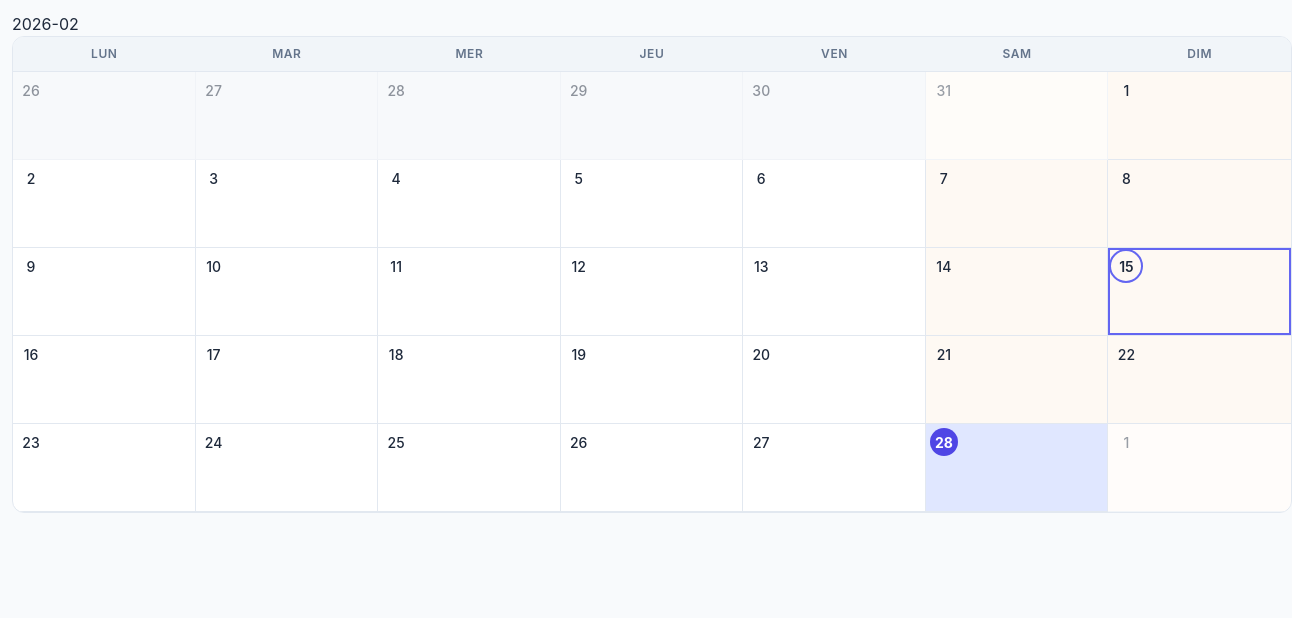
Test: CalendarGrid swipe navigation › swipe left navigates to the next month (Feb → Mar)
Expected: the text with test id "current-month" reads "2026-02", [12,14,79,34]
Step 1. Press the mouse on the table → coordinates (652, 274), box [12,36,1291,513]
Wait 500 ms
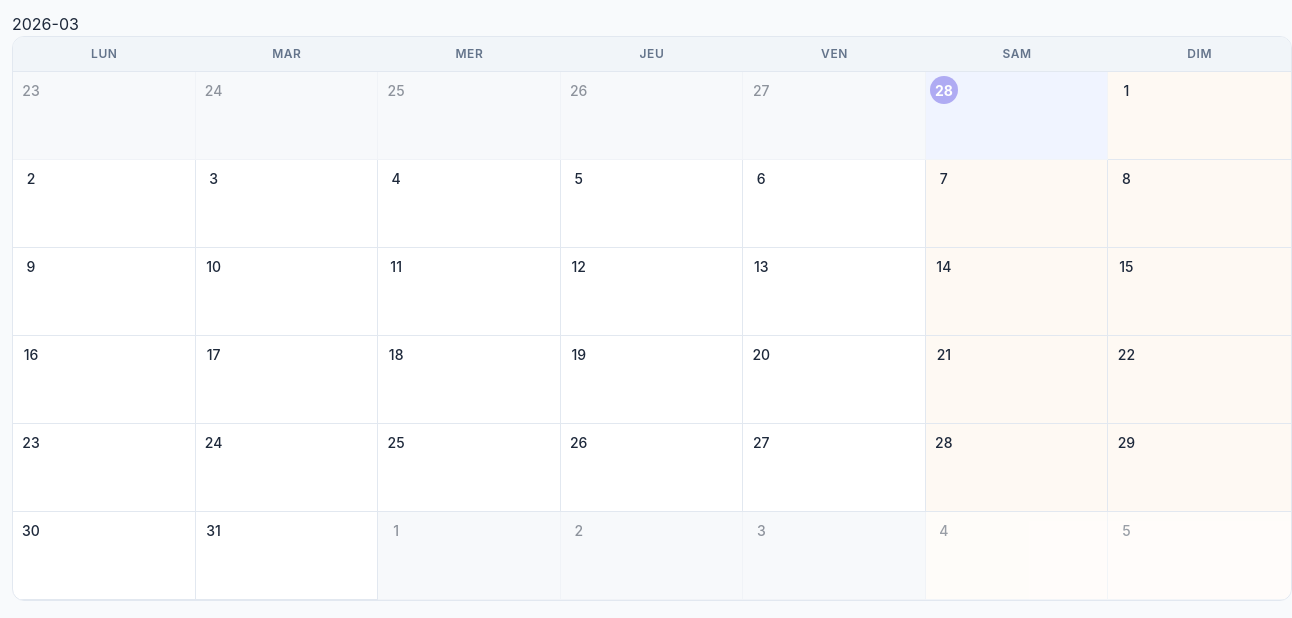
Now the text with test id "current-month" reads "2026-03", box [12,14,79,34]
